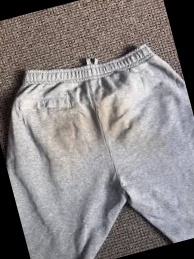earth: (101, 97, 128, 135), (61, 117, 75, 134)
